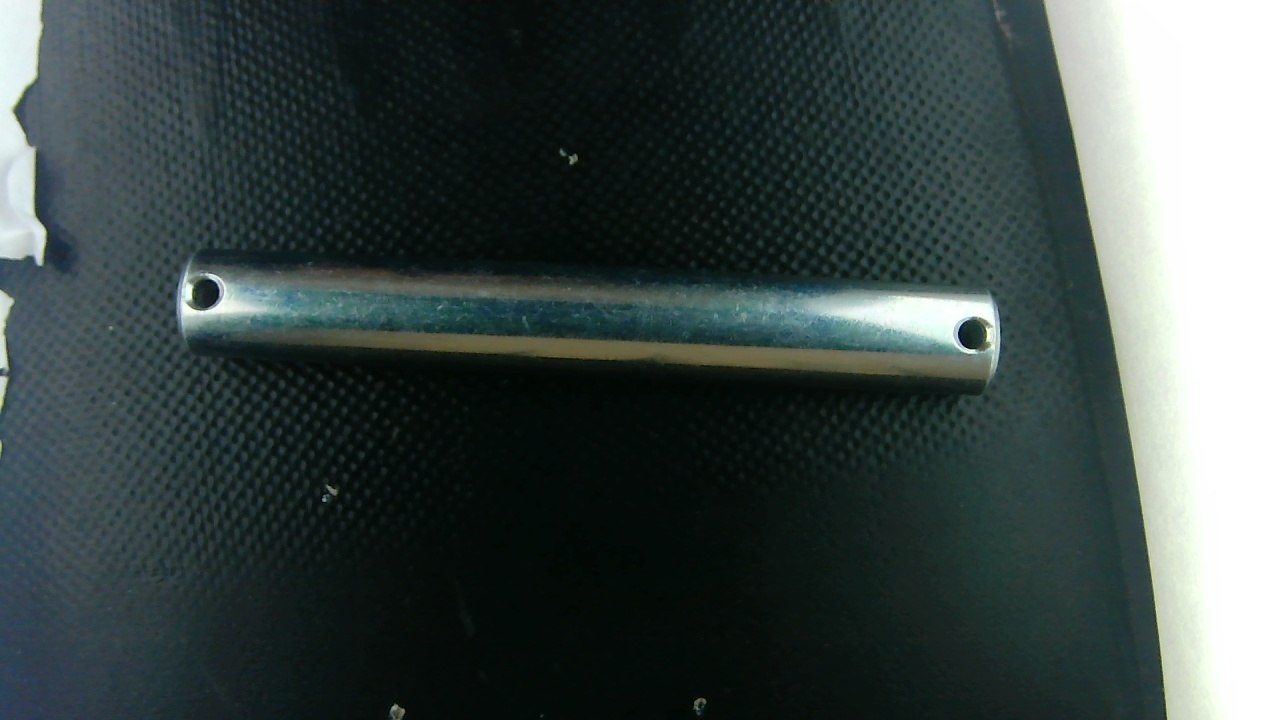Okay_Pin: (176, 251, 1000, 393)
